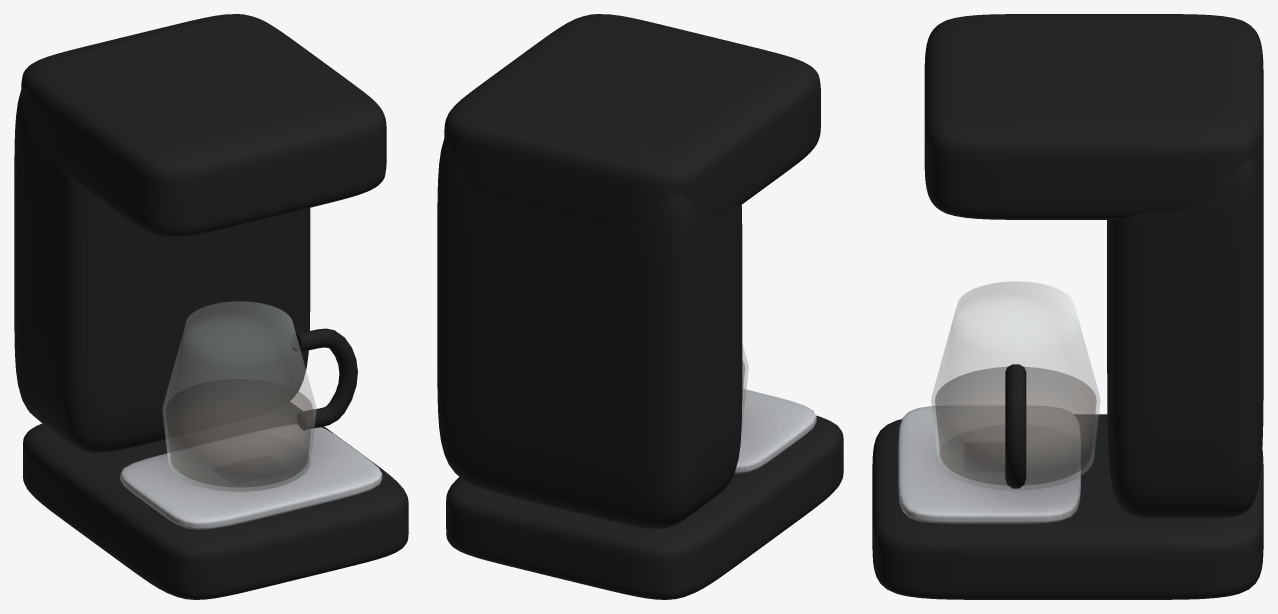
The model's file is drip-black.glb.
3 views of the same model, side by side, from view 1: azimuth 30°, elevation 25°; view 2: azimuth 150°, elevation 25°; view 3: azimuth 270°, elevation 25° (orthographic). The views are drawn at different scales.
Parts seen in each view (by area): view 1: machine_body, carafe_glass, steel, coffee_dark, bakelite; view 2: machine_body, steel; view 3: machine_body, carafe_glass, steel, coffee_dark, bakelite.
Boxes of the visible parts, left/top/right/bottom form: machine_body: left=14, top=14, right=408, bottom=599; carafe_glass: left=162, top=301, right=316, bottom=491; steel: left=120, top=424, right=382, bottom=529; coffee_dark: left=166, top=379, right=312, bottom=487; bakelite: left=291, top=328, right=357, bottom=430; machine_body: left=437, top=14, right=843, bottom=599; steel: left=734, top=389, right=816, bottom=473; machine_body: left=872, top=14, right=1263, bottom=599; carafe_glass: left=931, top=281, right=1100, bottom=490; steel: left=898, top=406, right=1080, bottom=523; coffee_dark: left=935, top=367, right=1096, bottom=485; bakelite: left=1005, top=364, right=1026, bottom=488.
Size of the model in its own units: 0.24 by 0.4 by 0.3.
5 materials, 1 textured.
